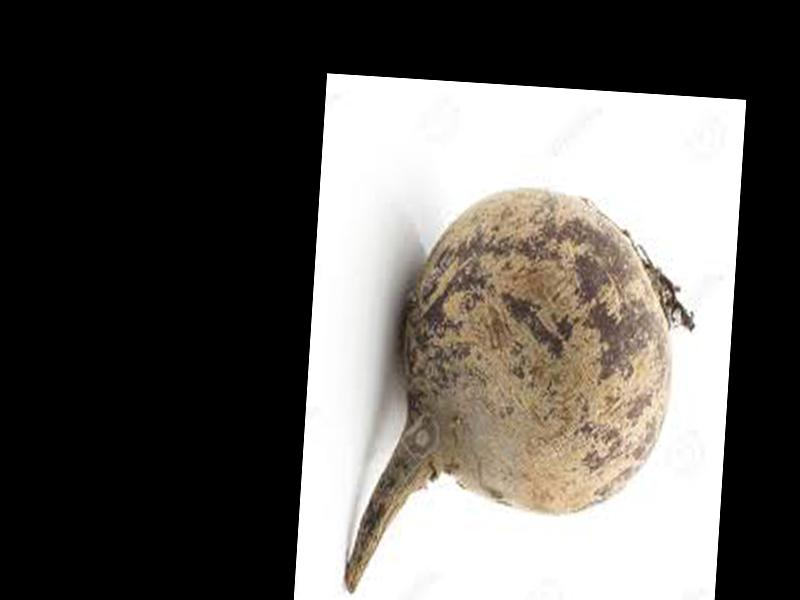Beet: (345, 177, 701, 600)
